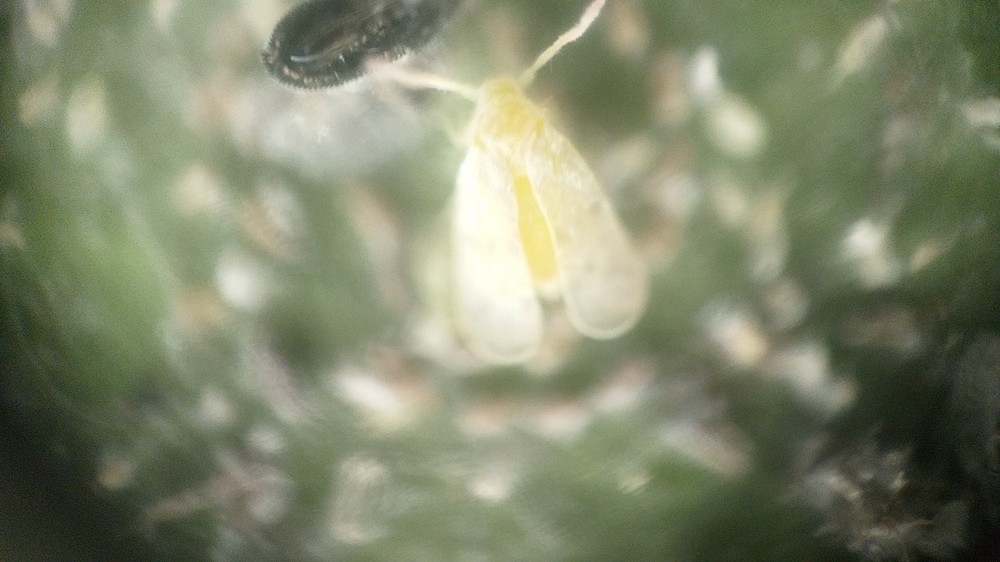Mosca Blanca: (368, 7, 685, 388)
